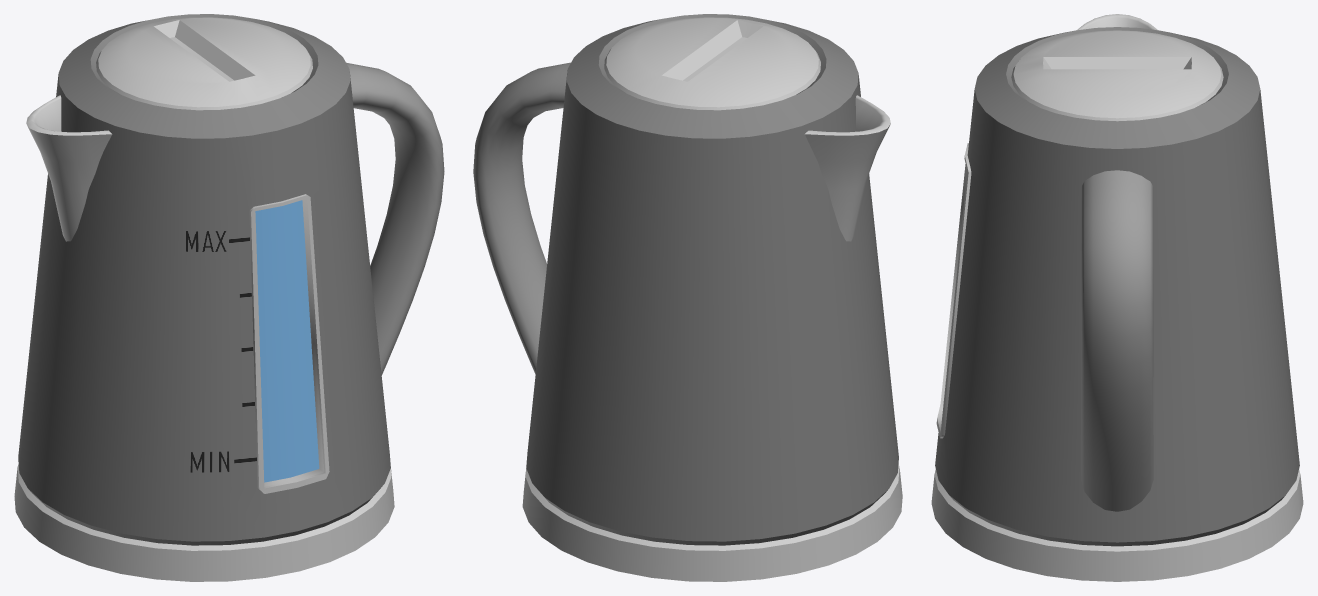
File: Teapot.fbx
The picture shows the model from 3 angles, left to right: view 1: azimuth 30°, elevation 25°; view 2: azimuth 150°, elevation 25°; view 3: azimuth 270°, elevation 25°; orthographic projection. The views are drawn at different scales.
Parts seen in each view (by area): view 1: Teapot, Water; view 2: Teapot; view 3: Teapot.
Boxes of the visible parts, x1=… form: Teapot: x1=14, y1=14, x2=444, y2=581; Water: x1=255, y1=200, x2=319, y2=482; Teapot: x1=473, y1=14, x2=902, y2=581; Teapot: x1=931, y1=14, x2=1303, y2=581.
Bounding box in the file's own units: 413 × 436 × 334.
